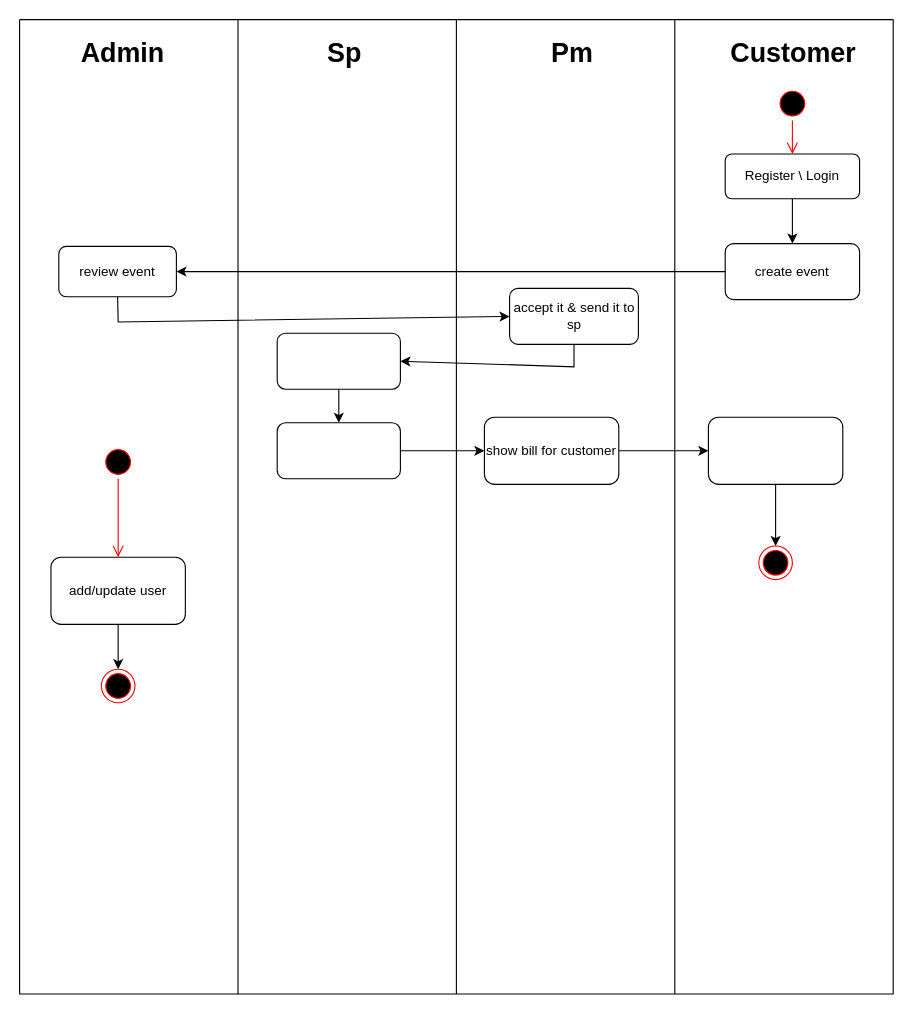
The diagram is 913 pixels wide and 1015 high, and some of its shapes have lost their labels. Here are the shapes that lost their labels. From the top down, the centre of each, then its label:
At point (338, 360): "add price to event".
At point (338, 450): "determine ready date".
At point (775, 450): "manage event".
